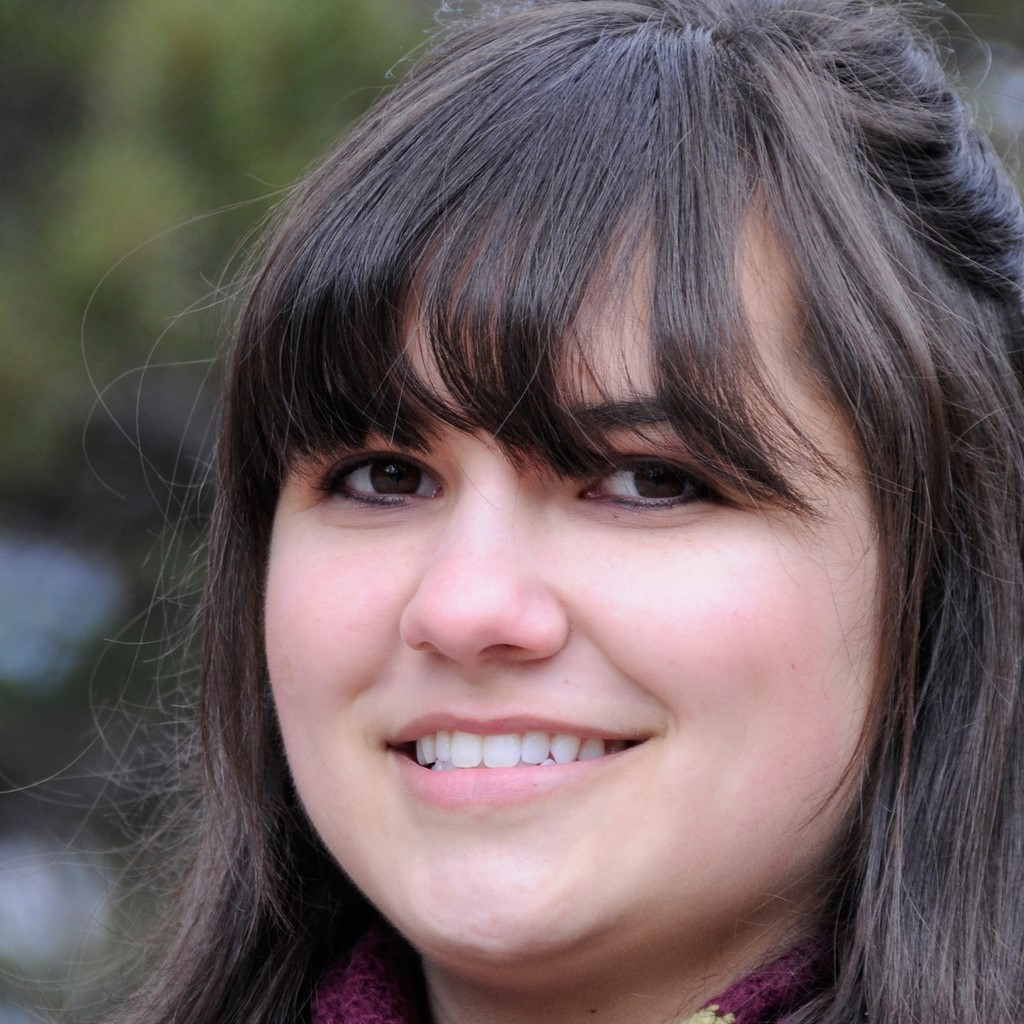sin_mascara: (248, 68, 947, 970)
